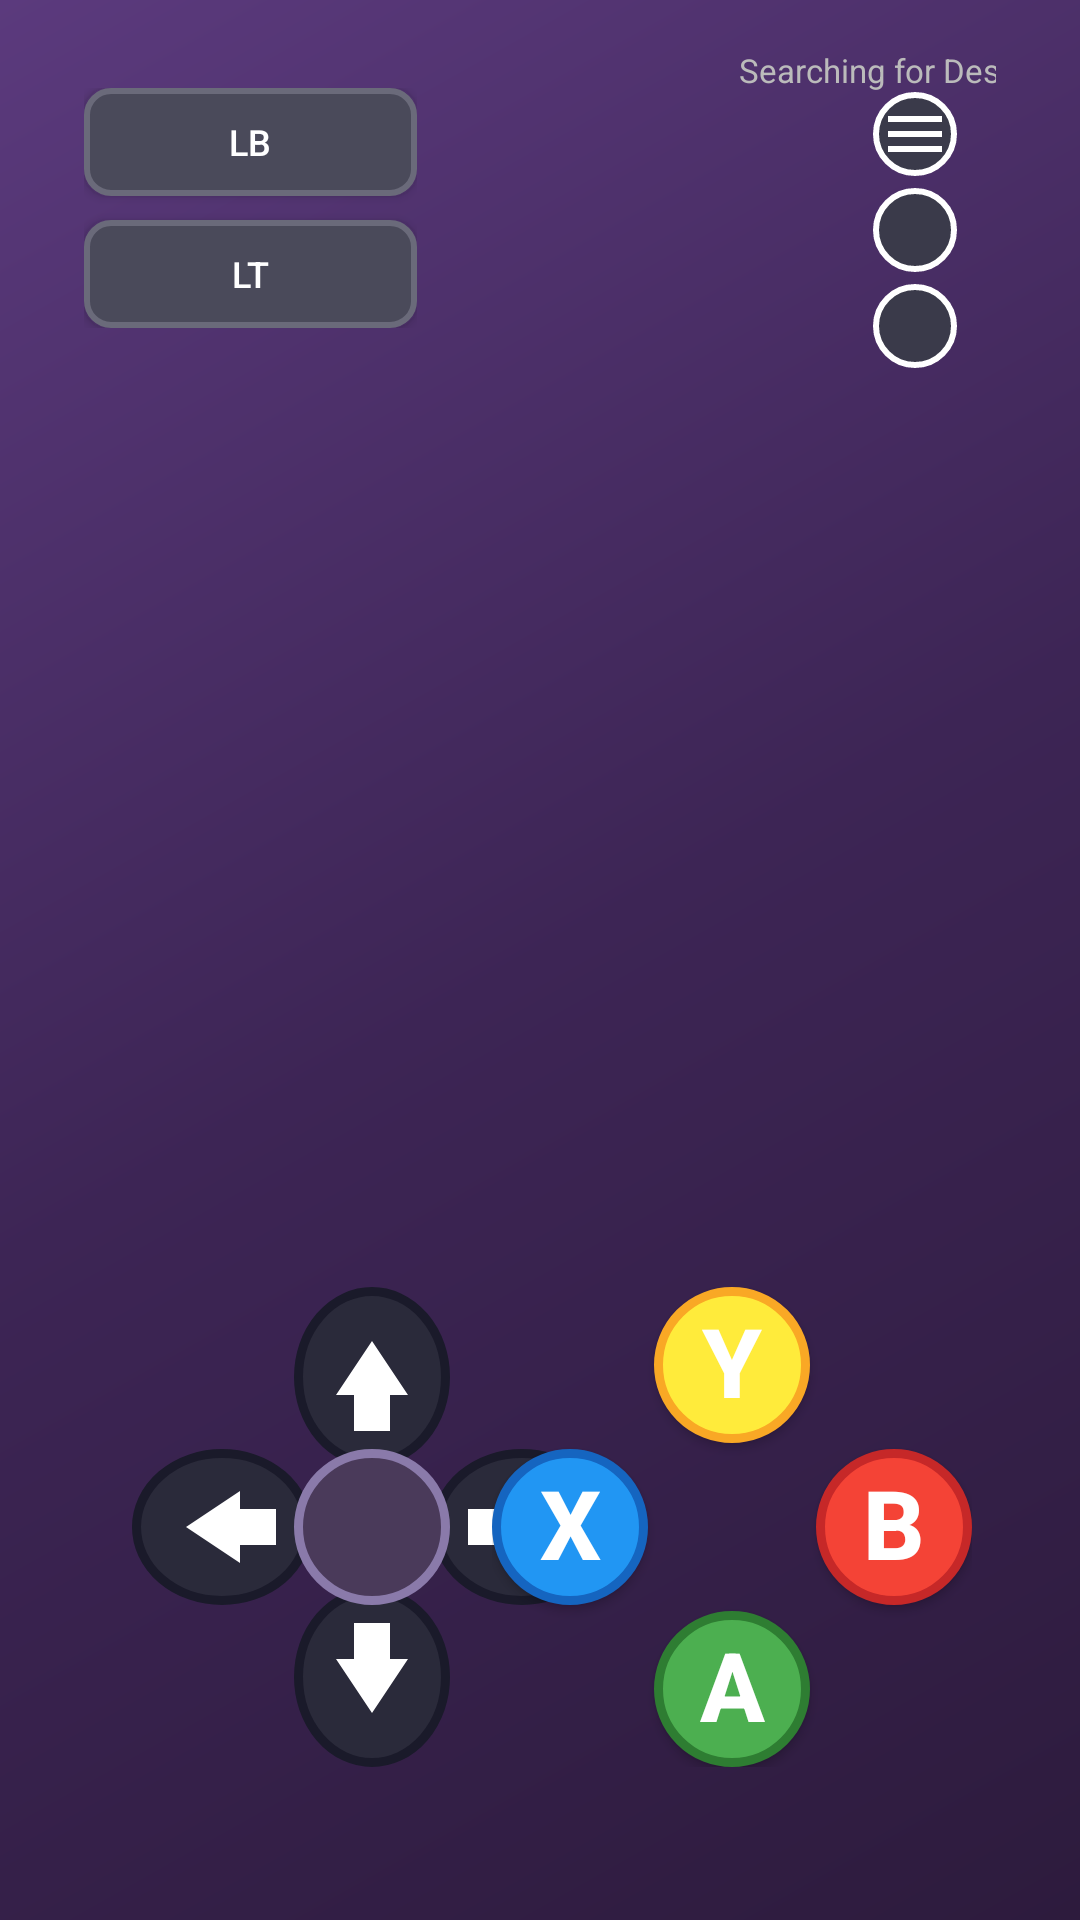

Icons on this 1080px x 1920px Android screen, each with the point to tap as (x,y):
dpad down: (372,1677)
dpad left: (222,1527)
dpad up: (372,1377)
menu: (915,134)
